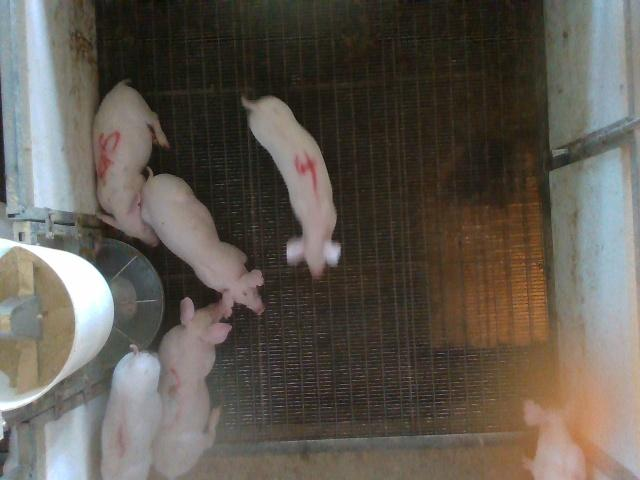pig-1: (101, 345, 162, 479)
pig-3: (152, 299, 231, 478)
pig-4: (242, 96, 340, 278)
pig-5: (94, 80, 169, 246)
